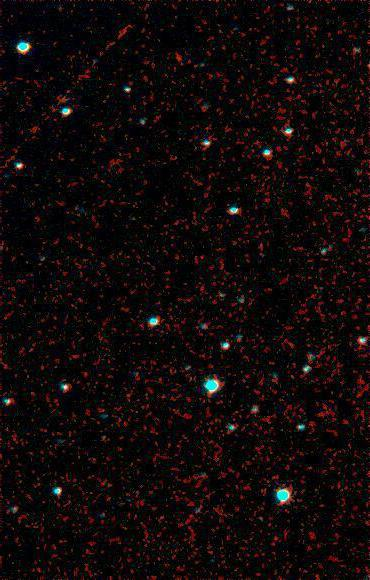star: (166, 44, 196, 74)
